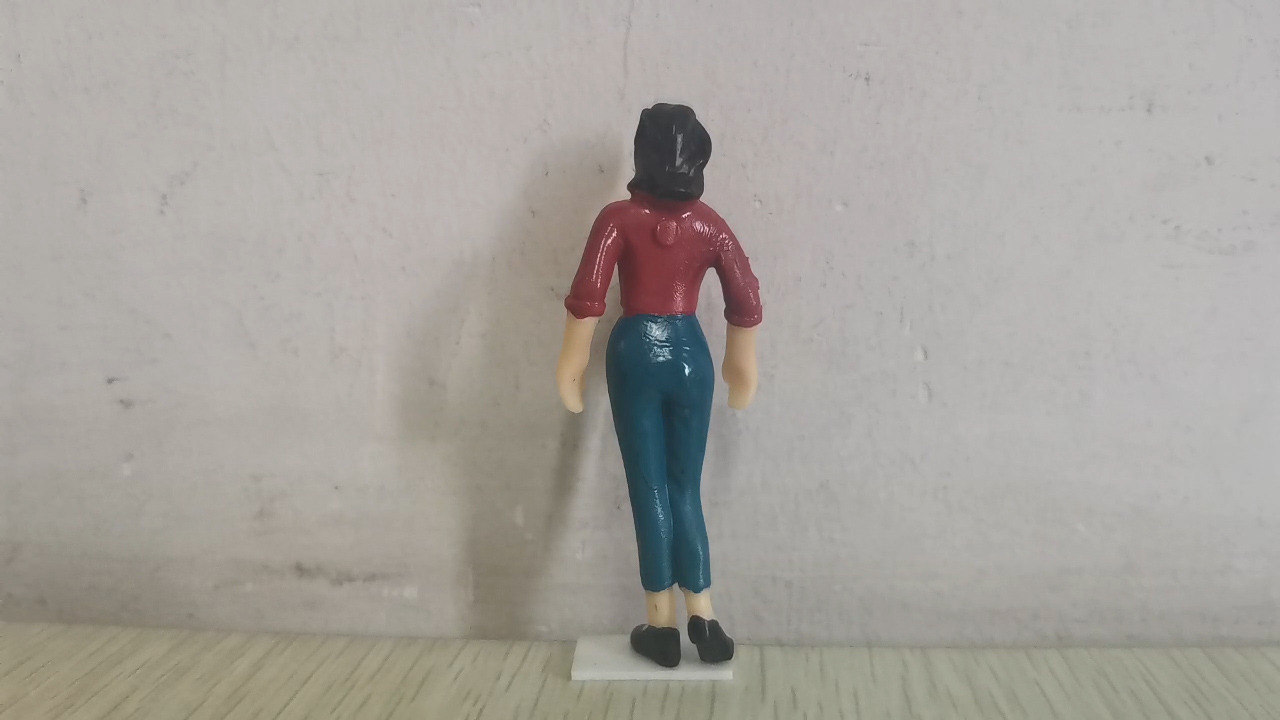person: (553, 102, 766, 669)
